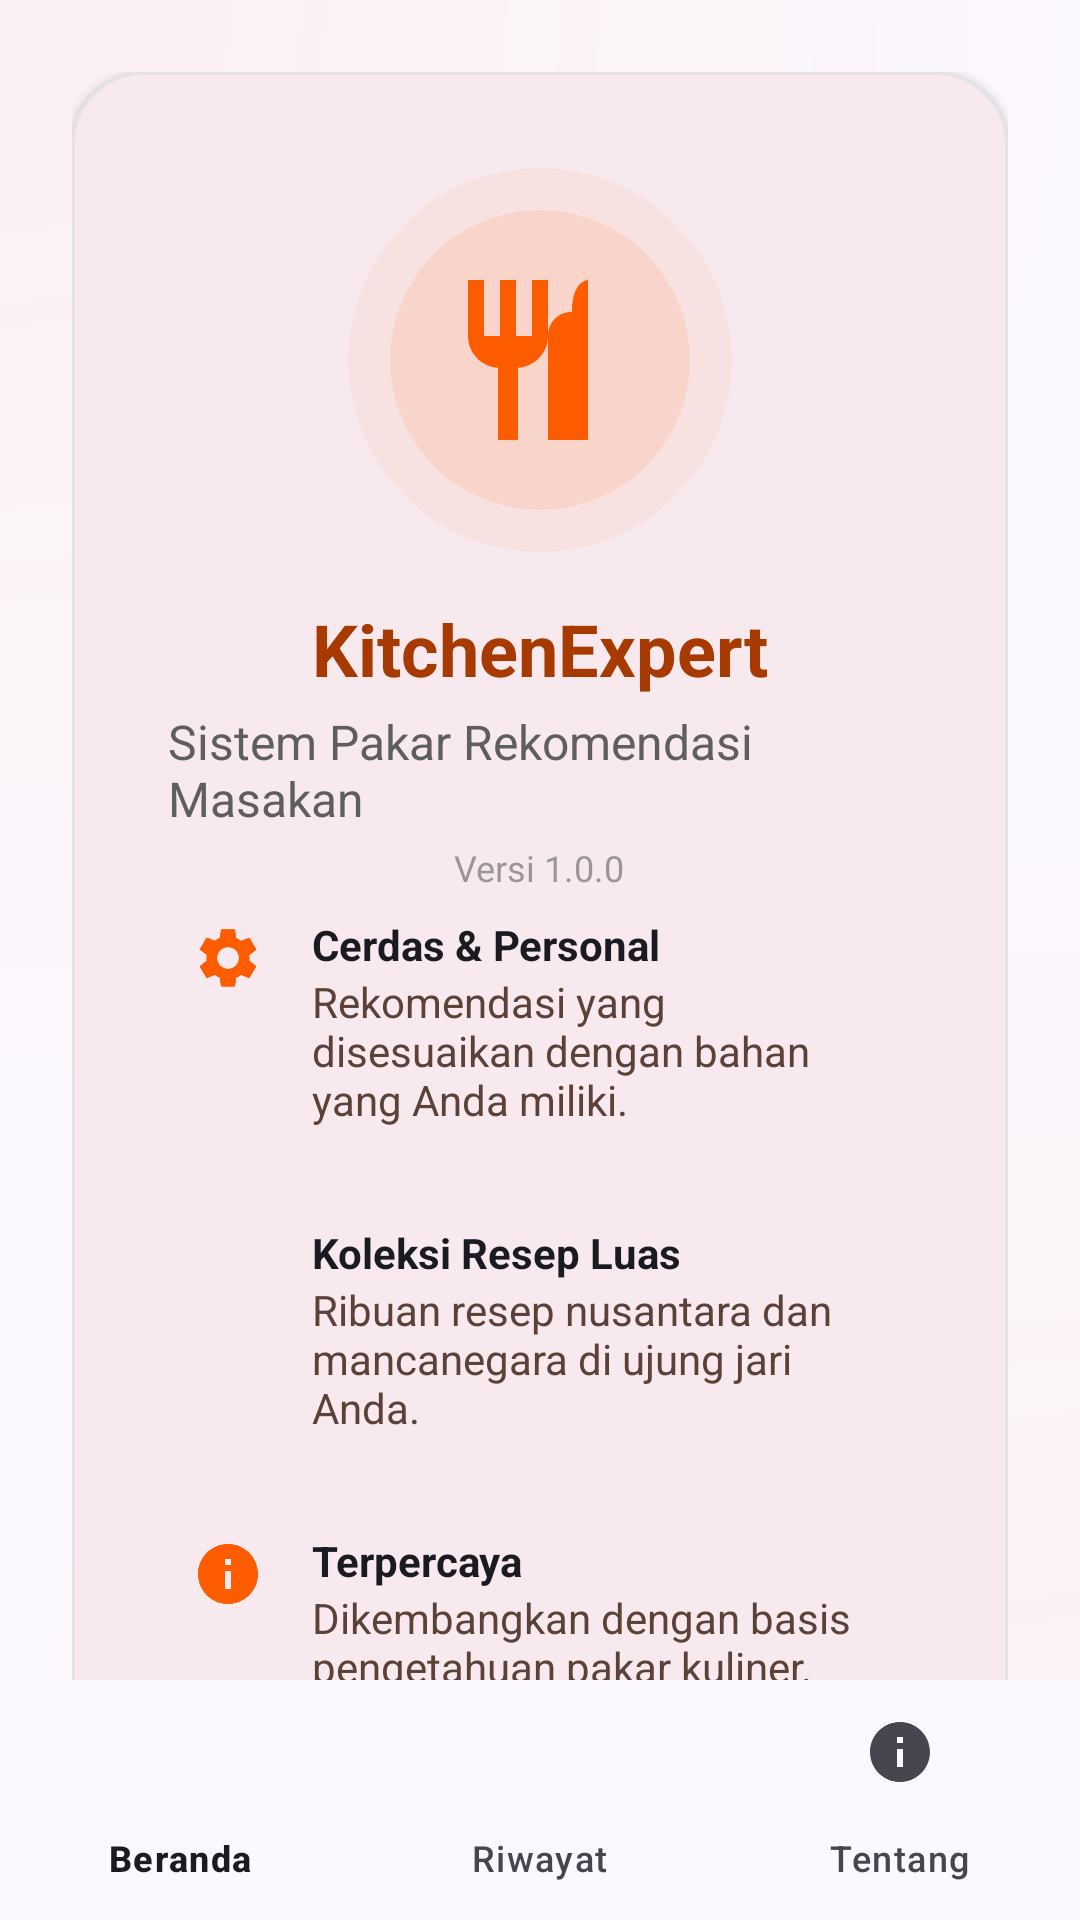

Named icons in this screenshot (1080px x 1920px) and their centers, [x,y]:
info: [228,1574]
restaurant: [528,360]
settings: [228,958]
